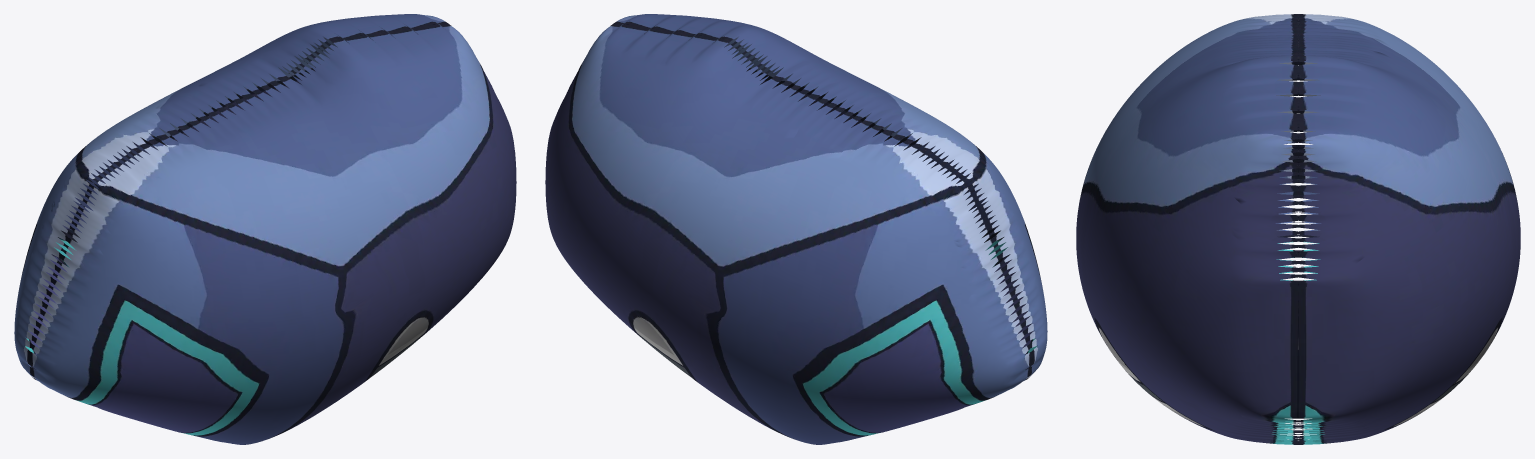
Rendered from front_corner_housing.glb.
3 renders of one model, left to right at view 1: azimuth 30°, elevation 25°; view 2: azimuth 150°, elevation 25°; view 3: azimuth 270°, elevation 25°, orthographic. The views are drawn at different scales.
Visible parts, largest first — view 1: front_corner_housing; view 2: front_corner_housing; view 3: front_corner_housing.
Boxes of the visible parts, x1,y1,x2,y2 form: front_corner_housing: [14, 14, 516, 444]; front_corner_housing: [545, 14, 1047, 444]; front_corner_housing: [1076, 14, 1520, 444].
Bounding box in the file's own units: 0.9889 × 0.7532 × 0.6714.
Materials: 1 (1 with a texture image).
